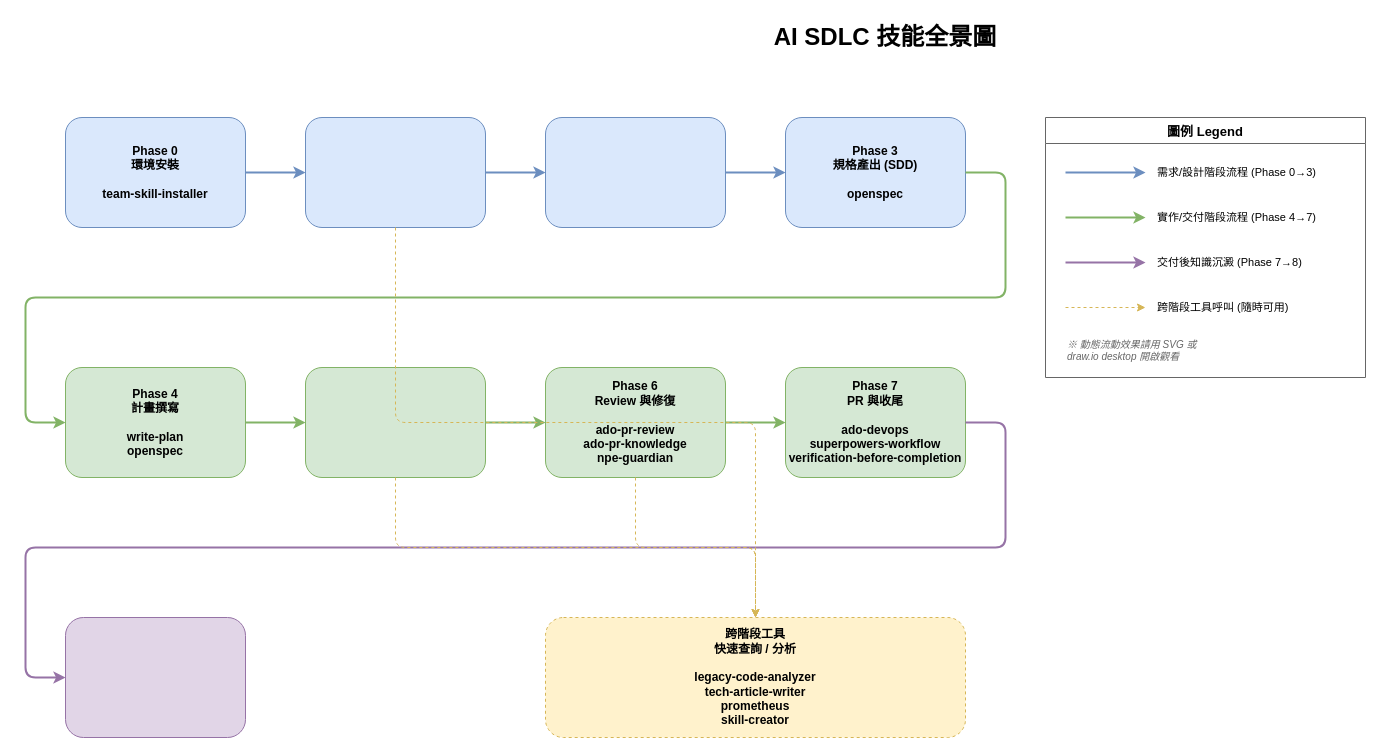
The diagram is 1383 pixels wide and 755 high, and some of its shapes have lost their labels. The centre of each missing label's shape, as x and y in pixels:
"Phase 1 需求獲取與分析 ado-devops legacy-code-analyzer ado-pr-knowledge" goes at pixel 395 172.
"Phase 2 需求確認與設計 依規模選工具： 小→直接描述 中→openspec 大→brainstorm" goes at pixel 635 172.
"Phase 5 實作與測試 subagent-driven-dev TDD superpowers-workflow" goes at pixel 395 422.
"Phase 8 知識沉澱與文件化 Obsidian Draw.io Wiki" goes at pixel 155 677.
